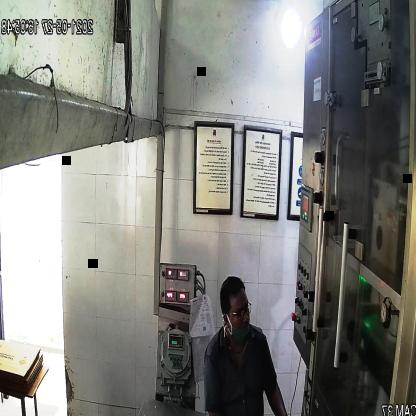goggles: (224, 298, 254, 324)
